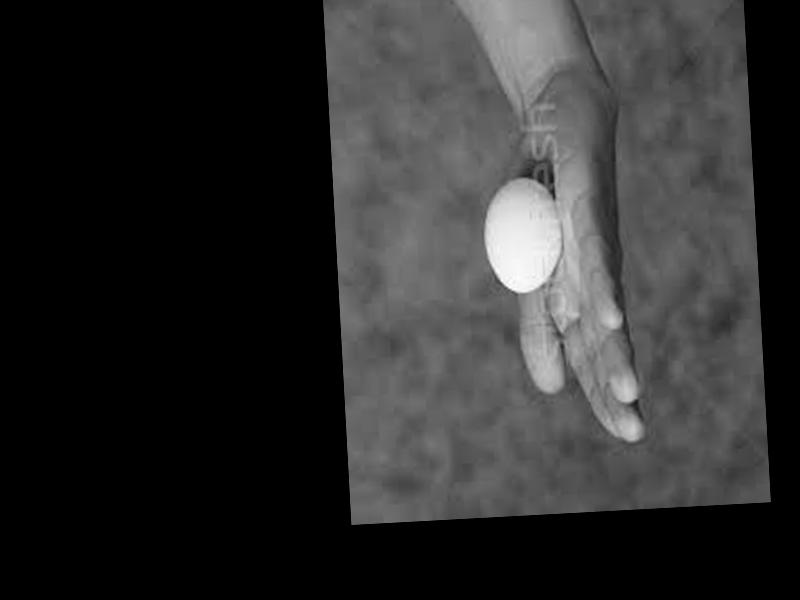Eggs: (479, 175, 564, 294)
